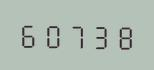eight: (110, 20, 132, 50)
seven: (64, 19, 86, 50)
six: (18, 18, 40, 49)
three: (87, 20, 109, 50)
zero: (41, 19, 63, 49)
